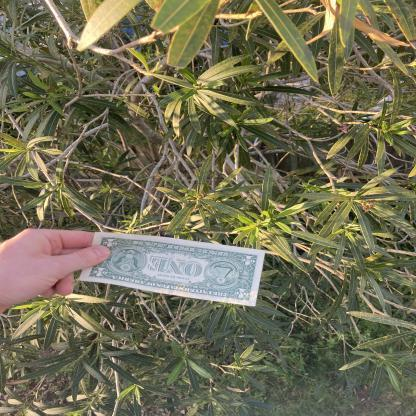one-back: (79, 232, 266, 306)
